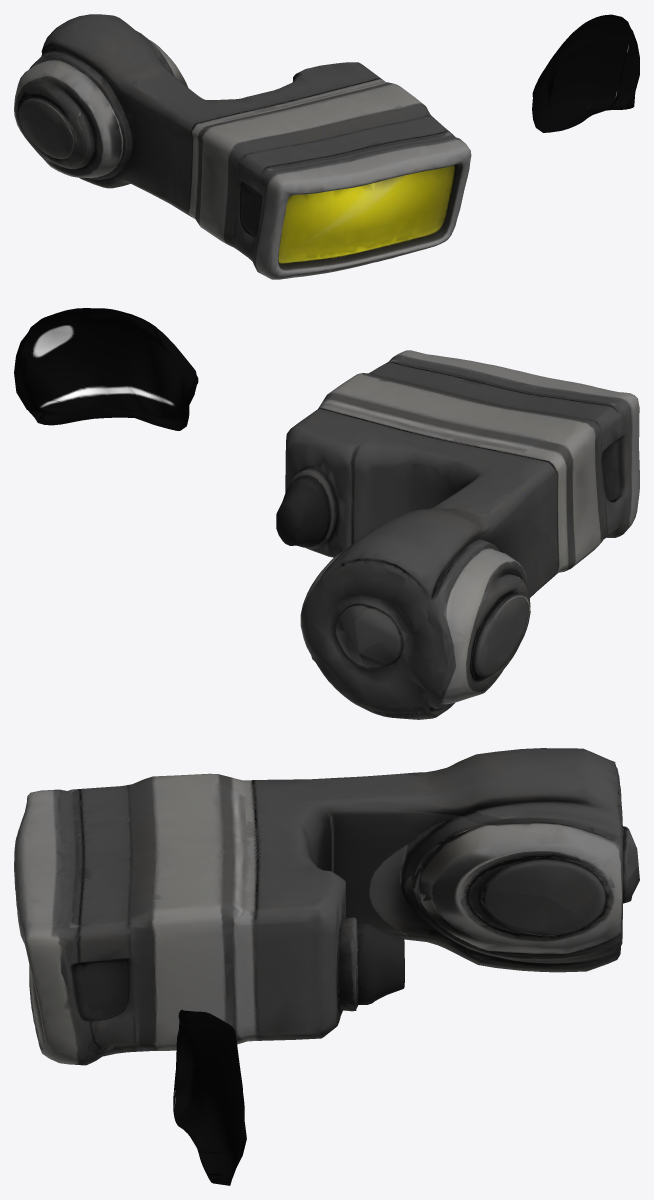
File: Yellow-Scanner.glb
3 renders of one model, top to bottom at view 1: azimuth 30°, elevation 25°; view 2: azimuth 150°, elevation 25°; view 3: azimuth 270°, elevation 25°, orthographic. The views are drawn at different scales.
Parts seen in each view (by area): view 1: Mesh_0.003; view 2: Mesh_0.003; view 3: Mesh_0.003.
Boxes of the visible parts, box(x1,y1,x2,y2) form: Mesh_0.003: box(14, 14, 639, 279); Mesh_0.003: box(14, 308, 639, 719); Mesh_0.003: box(14, 748, 639, 1185).
Size of the model in its own units: 0.5168 by 0.1423 by 0.3922.
Materials: 2 (2 with a texture image).
